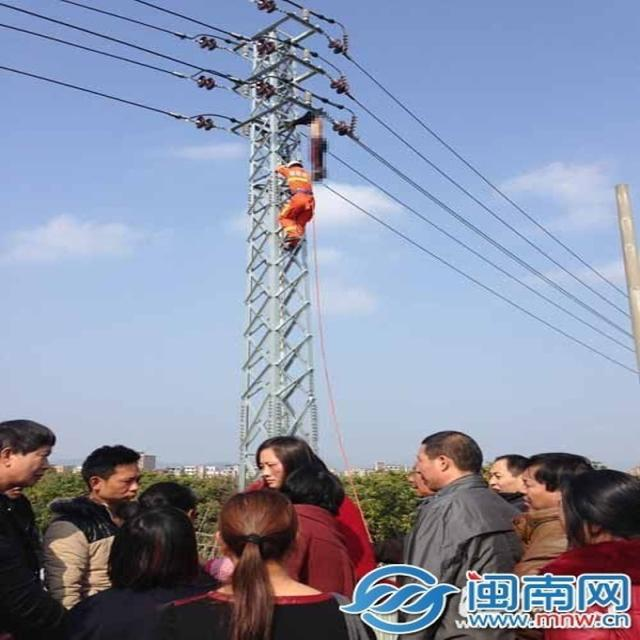non-critical vegetation: (183, 20, 344, 480)
